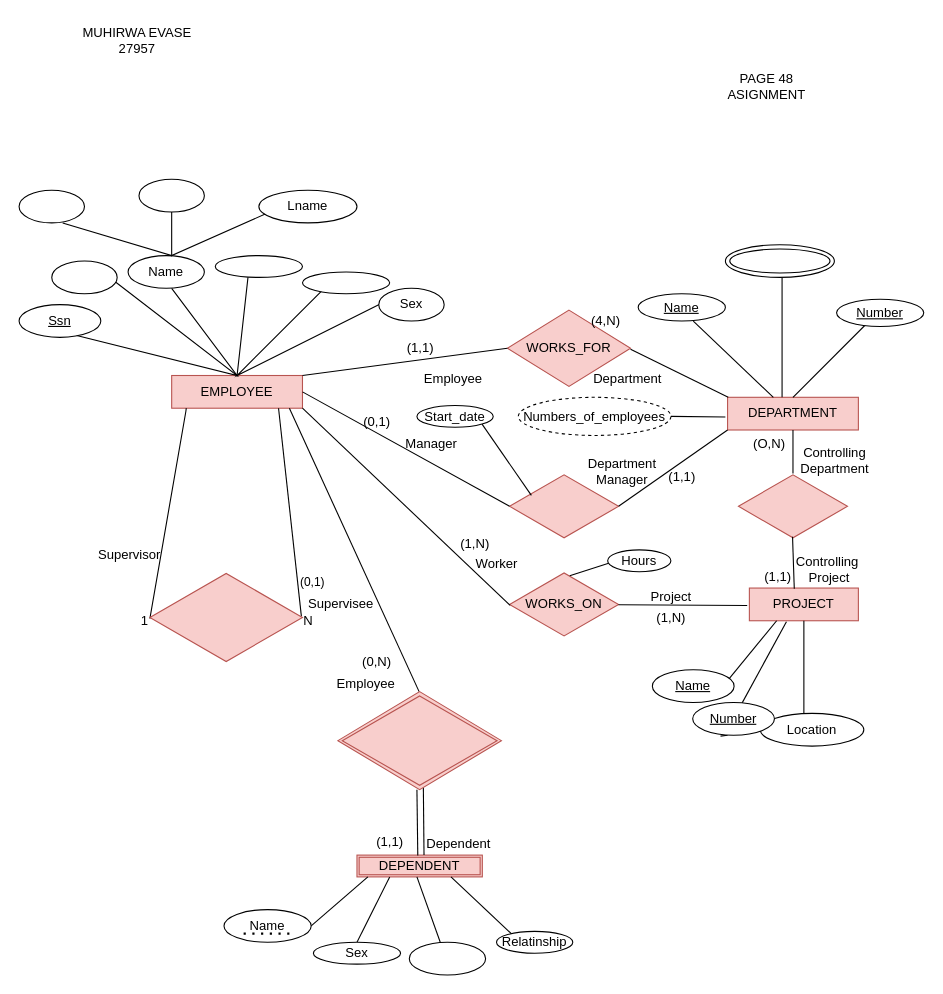
This 943x994 diagram has some shape labels left out. The centre of each missing label's shape, as x and y in pixels:
"Address" belongs at [258,266].
"Bdate" belongs at [84,277].
"Birth_date" belongs at [447,958].
"CONTROLS" belongs at [792,506].
"DEPENDENTS_OF" belongs at [419,740].
"Fname" belongs at [51,206].
"Locations" belongs at [779,260].
"MANAGES" belongs at [563,506].
"Minit" belongs at [171,195].
"Salary" belongs at [345,282].
"SUPERVISION" belongs at [225,617].
